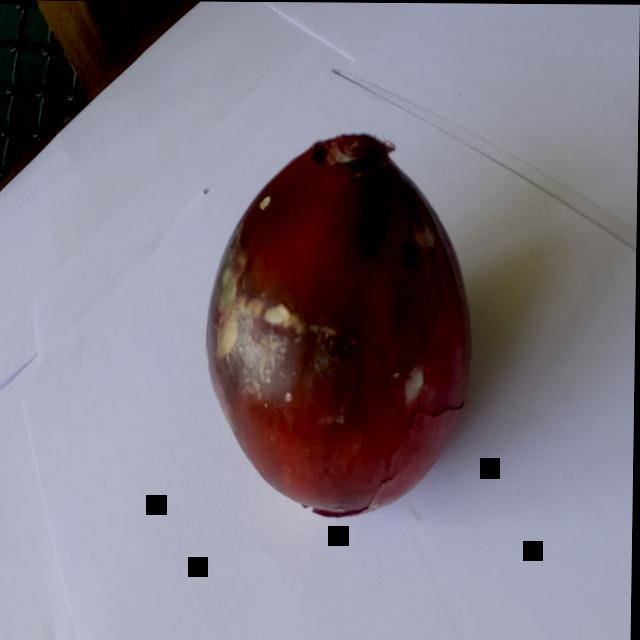Onion: (203, 111, 492, 549)
